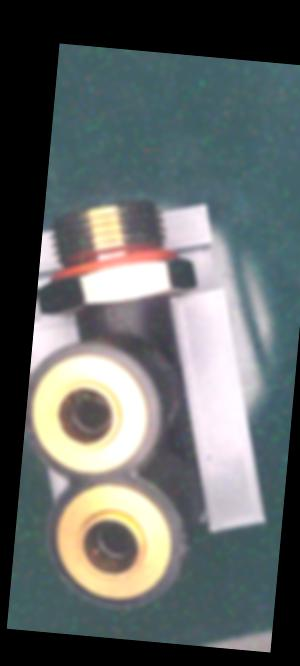off-centered: (59, 386, 120, 445)
white mark: (104, 304, 120, 333)
